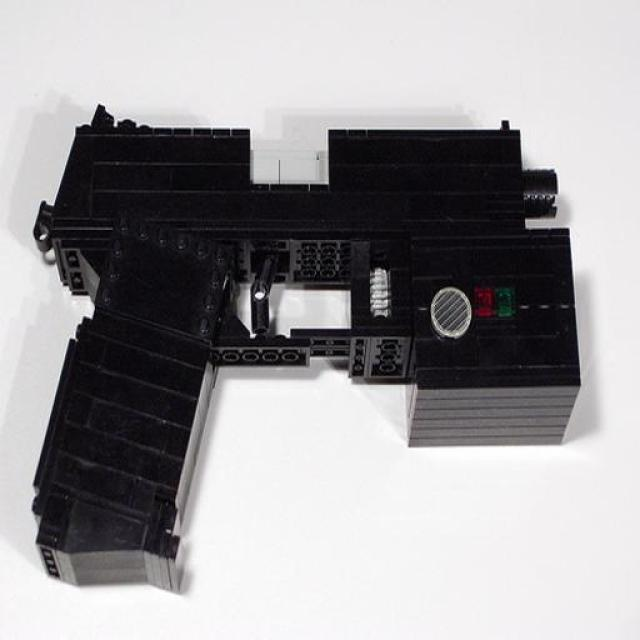pistol: (25, 100, 580, 590)
